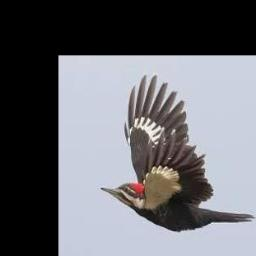Woodpecker: (100, 75, 255, 230)
